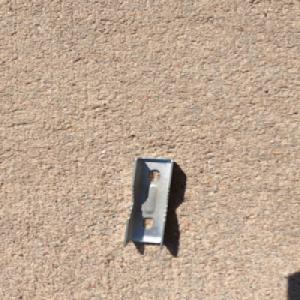ClampPart: (120, 156, 176, 251)
